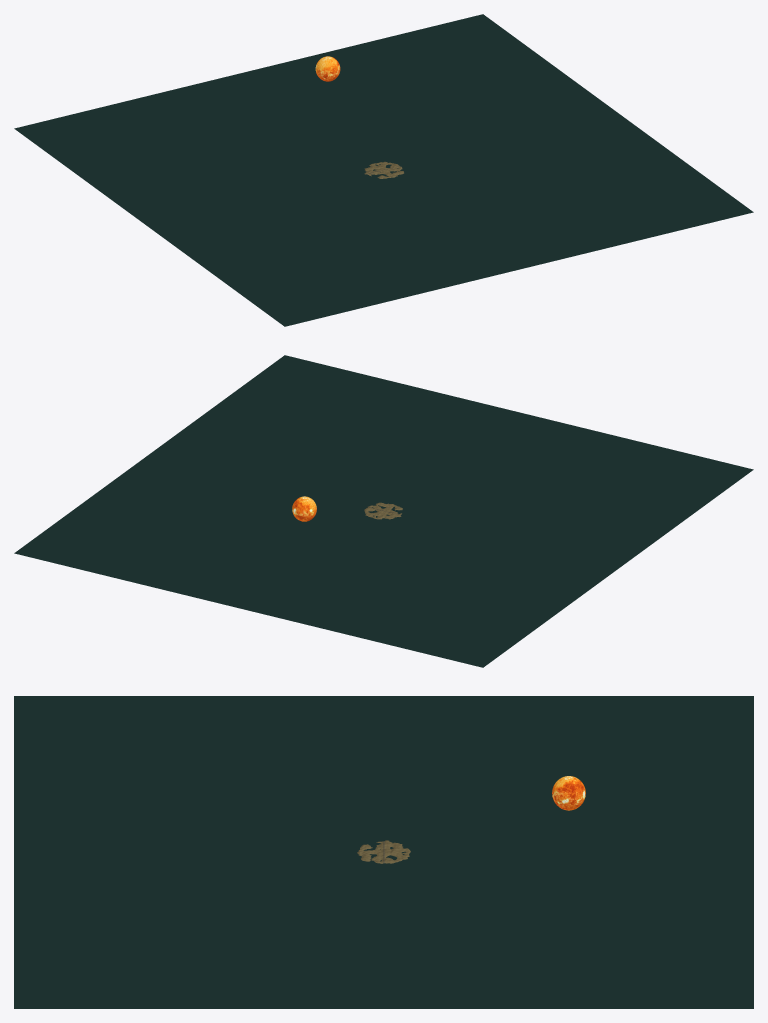
The model's file is windowsxpmap.glb.
3 renders of one model, top to bottom at view 1: azimuth 30°, elevation 25°; view 2: azimuth 150°, elevation 25°; view 3: azimuth 270°, elevation 25°, orthographic. The views are drawn at different scales.
Visible parts, largest first — view 1: Water; view 2: Water; view 3: Water, Sun, Terrain_RigidBody.
Part boxes in pixels (box(x1,y1,x2,y2)): Water: box(14, 14, 753, 326); Water: box(14, 355, 753, 667); Water: box(14, 696, 753, 1008); Sun: box(552, 776, 585, 810); Terrain_RigidBody: box(357, 840, 410, 863).
Size of the model in its own units: 10000 by 2364 by 10000.
Materials: 8 (4 with a texture image).
